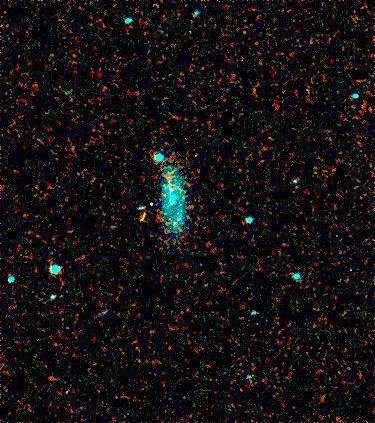star: (138, 186, 168, 216)
